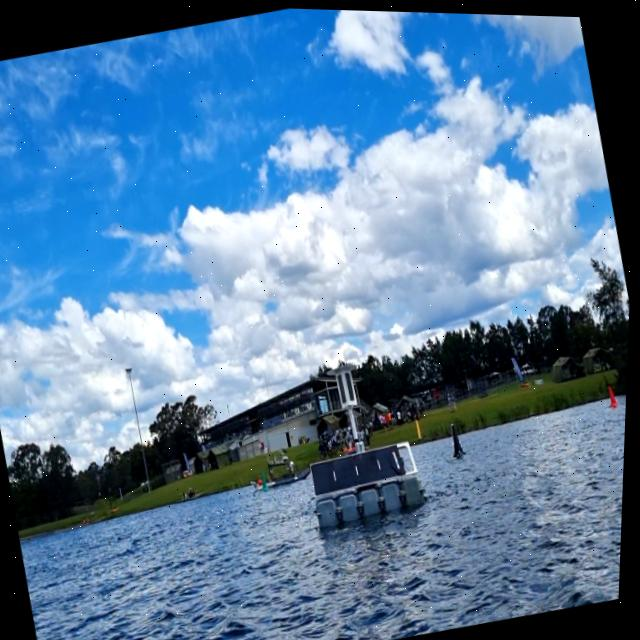led: (338, 368, 361, 404), (345, 368, 359, 401), (338, 370, 352, 402)
